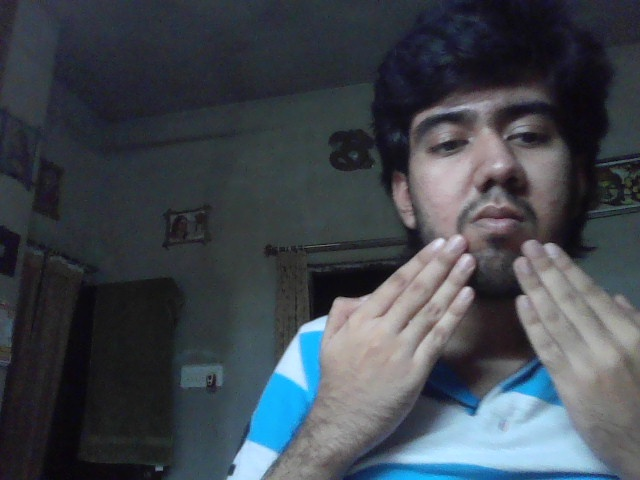ThankYou: (320, 234, 640, 461)
